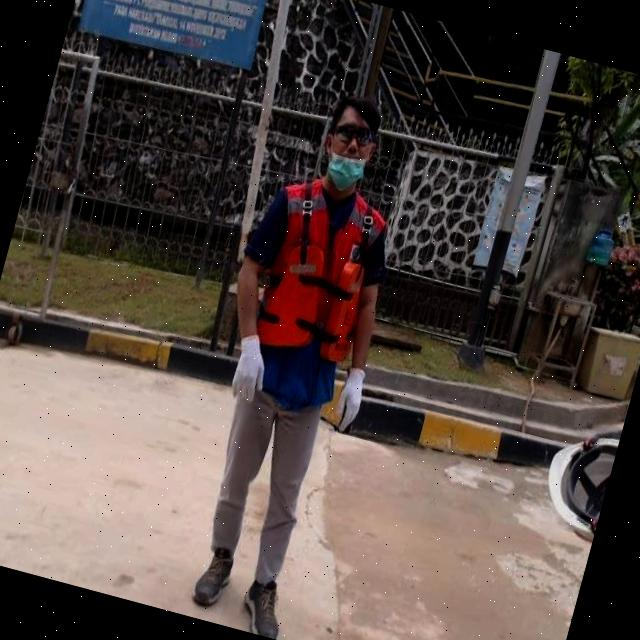boots: (232, 569, 295, 640), (187, 538, 240, 612)
